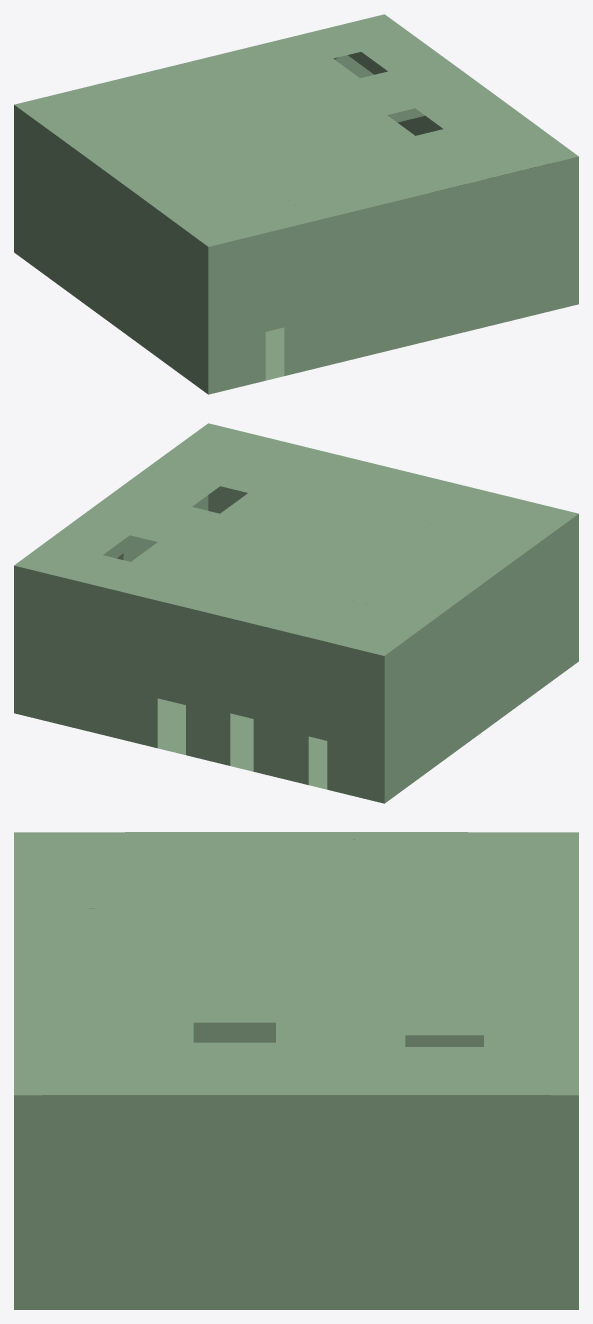
File: AFT_STORE.glb
3 views of the same model, one above another, from view 1: azimuth 30°, elevation 25°; view 2: azimuth 150°, elevation 25°; view 3: azimuth 270°, elevation 25° (orthographic). The views are drawn at different scales.
Parts seen in each view (by area): view 1: PL_No8LBHDxAPTS_009003-10_NVA_1993, PL_No8LBHDxAPTS_006001-11_NVA_1993, PL_OuterShellxAPTS_030002-18.5_NVA_1993, PL_OuterShellxAPTP_002001-18.5_NVA_1993, PL_UDxAPTS_008003-12_NVA_1993, PL_UDxAPTS_001005-12_NVA_1993, PL_UDxAPTP_011006-12_NVA_1993, PL_No8LBHDxAPTS_013006-10_NVA_1993, PL_No8LBHDxAPTS_013007-10_NVA_1993, PL_UDxAPTS_008001-12_NVA_1993, PL_No8LBHDxAPTS_012001-10_NVA_1993, PL_OuterShellxAPTP_002002-18.5_NVA_1993 (+43 smaller); view 2: PL_No8LBHDxAPTP_009003-10_NVA_1993, PL_No8LBHDxAPTP_006001-11_NVA_1993, PL_OuterShellxAPTS_030002-18.5_NVA_1993, PL_OuterShellxAPTP_002001-18.5_NVA_1993, PL_UDxAPTS_008003-12_NVA_1993, PL_UDxAPTS_001005-12_NVA_1993, PL_UDxAPTP_011006-12_NVA_1993, PL_UDxAPTS_008001-12_NVA_1993, PL_No8LBHDxAPTP_012001-10_NVA_1993, PL_OuterShellxAPTP_002002-18.5_NVA_1993, PL_No8LBHDxAPTP_013008-10_NVA_1993, PL_UDxAPTS_009011-12_NVA_1993 (+47 smaller); view 3: PL_TransBHDxBHD13P_002001-10_NVA_1993, PL_TransBHDxBHD13S_002002-10_NVA_1993, PL_TransBHDxBHD13P_003001-10_NVA_1993, PL_TransBHDxBHD13S_003002-10_NVA_1993, PL_UDxAPTS_008003-12_NVA_1993, PL_UDxAPTS_001005-12_NVA_1993, PL_UDxAPTP_011006-12_NVA_1993, PL_TransBHDxBHD13P_002002-10_NVA_1993, PL_TransBHDxBHD13S_002001-10_NVA_1993, PL_UDxAPTS_008001-12_NVA_1993, PL_UDxAPTS_009011-12_NVA_1993, PL_UDxAPTP_015007-12_NVA_1993 (+39 smaller).
Boxes of the visible parts, left/top/right/bottom form: PL_No8LBHDxAPTS_009003-10_NVA_1993: left=292, top=193, right=428, bottom=307; PL_No8LBHDxAPTS_006001-11_NVA_1993: left=452, top=163, right=554, bottom=268; PL_OuterShellxAPTS_030002-18.5_NVA_1993: left=111, top=176, right=175, bottom=336; PL_OuterShellxAPTP_002001-18.5_NVA_1993: left=47, top=129, right=111, bottom=290; PL_UDxAPTS_008003-12_NVA_1993: left=196, top=122, right=378, bottom=190; PL_UDxAPTS_001005-12_NVA_1993: left=331, top=91, right=505, bottom=157; PL_UDxAPTP_011006-12_NVA_1993: left=282, top=55, right=451, bottom=117; PL_No8LBHDxAPTS_013006-10_NVA_1993: left=292, top=275, right=428, bottom=340; PL_No8LBHDxAPTS_013007-10_NVA_1993: left=292, top=308, right=428, bottom=373; PL_UDxAPTS_008001-12_NVA_1993: left=111, top=155, right=243, bottom=210; PL_No8LBHDxAPTS_012001-10_NVA_1993: left=208, top=235, right=256, bottom=328; PL_OuterShellxAPTP_002002-18.5_NVA_1993: left=14, top=105, right=46, bottom=243; PL_No8LBHDxAPTP_009003-10_NVA_1993: left=164, top=602, right=300, bottom=716; PL_No8LBHDxAPTP_006001-11_NVA_1993: left=38, top=572, right=140, bottom=677; PL_OuterShellxAPTS_030002-18.5_NVA_1993: left=481, top=549, right=545, bottom=699; PL_OuterShellxAPTP_002001-18.5_NVA_1993: left=417, top=585, right=481, bottom=745; PL_UDxAPTS_008003-12_NVA_1993: left=262, top=495, right=445, bottom=563; PL_UDxAPTS_001005-12_NVA_1993: left=136, top=464, right=310, bottom=530; PL_UDxAPTP_011006-12_NVA_1993: left=87, top=504, right=255, bottom=566; PL_UDxAPTS_008001-12_NVA_1993: left=398, top=528, right=529, bottom=584; PL_No8LBHDxAPTP_012001-10_NVA_1993: left=336, top=644, right=384, bottom=737; PL_OuterShellxAPTP_002002-18.5_NVA_1993: left=384, top=632, right=417, bottom=770; PL_No8LBHDxAPTP_013008-10_NVA_1993: left=164, top=684, right=300, bottom=749; PL_UDxAPTS_009011-12_NVA_1993: left=185, top=443, right=339, bottom=495; PL_TransBHDxBHD13P_002001-10_NVA_1993: left=296, top=1095, right=490, bottom=1213; PL_TransBHDxBHD13S_002002-10_NVA_1993: left=102, top=1095, right=296, bottom=1213; PL_TransBHDxBHD13P_003001-10_NVA_1993: left=296, top=1213, right=490, bottom=1285; PL_TransBHDxBHD13S_003002-10_NVA_1993: left=102, top=1213, right=296, bottom=1285; PL_UDxAPTS_008003-12_NVA_1993: left=155, top=891, right=296, bottom=987; PL_UDxAPTS_001005-12_NVA_1993: left=155, top=988, right=296, bottom=1077; PL_UDxAPTP_011006-12_NVA_1993: left=312, top=988, right=437, bottom=1077; PL_TransBHDxBHD13P_002002-10_NVA_1993: left=490, top=1095, right=578, bottom=1213; PL_TransBHDxBHD13S_002001-10_NVA_1993: left=14, top=1095, right=102, bottom=1213; PL_UDxAPTS_008001-12_NVA_1993: left=155, top=832, right=296, bottom=891; PL_UDxAPTS_009011-12_NVA_1993: left=69, top=988, right=155, bottom=1077; PL_UDxAPTP_015007-12_NVA_1993: left=437, top=892, right=523, bottom=987.
Size of the model in its own units: 15.85 by 6.05 by 14.4.
